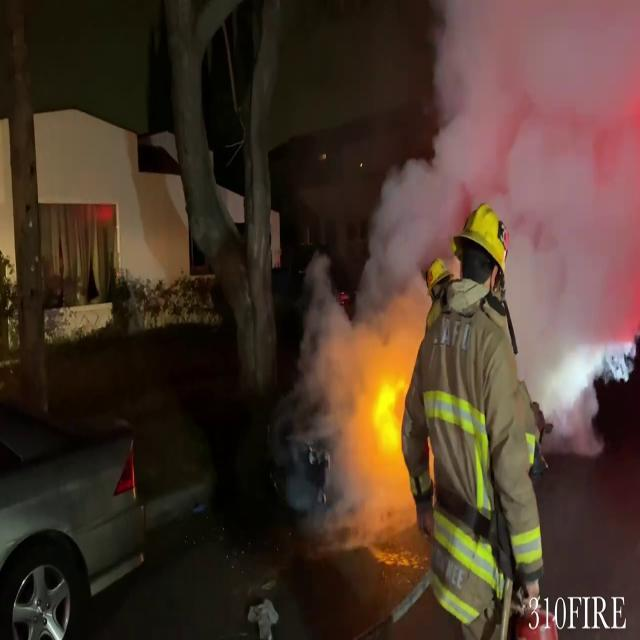Fire: (372, 344, 414, 454)
Smoke: (354, 1, 639, 356)
